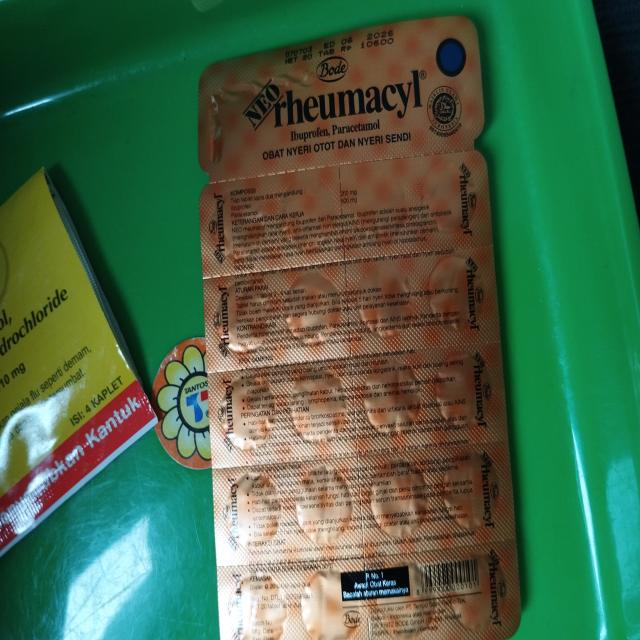B3: (196, 11, 523, 640), (0, 163, 164, 559)
